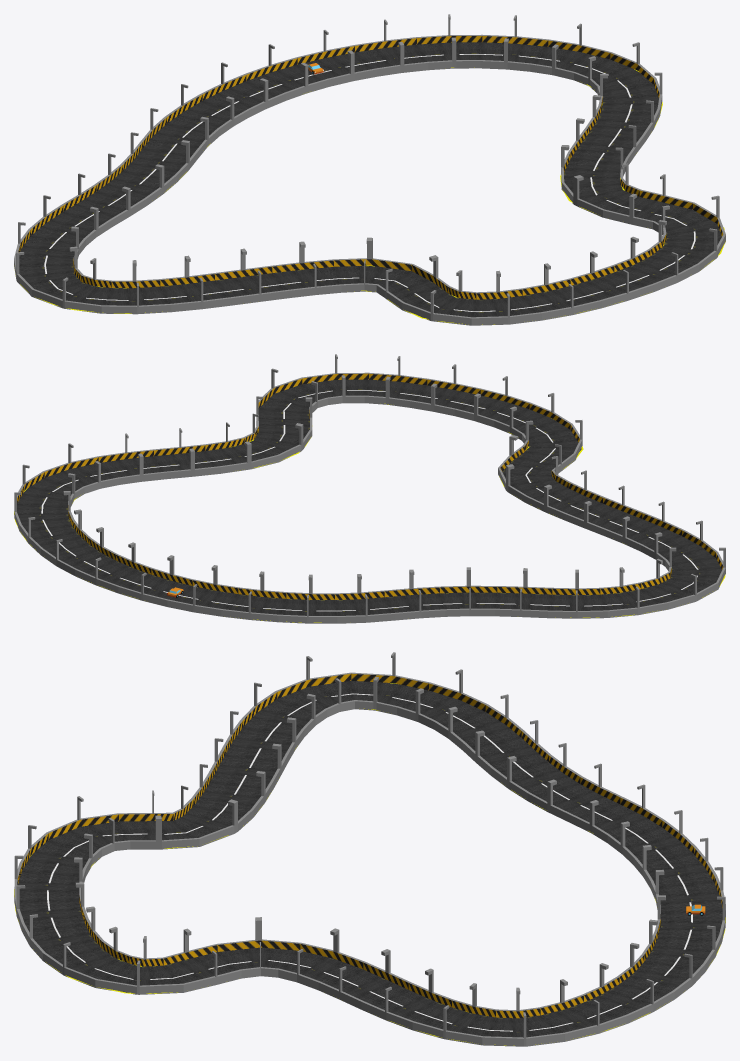
The model's file is car and track.fbx.
3 renders of one model, top to bottom at view 1: azimuth 30°, elevation 25°; view 2: azimuth 150°, elevation 25°; view 3: azimuth 270°, elevation 25°, orthographic. The views are drawn at different scales.
Visible parts, largest first — view 1: Road, Barrier; view 2: Road, Barrier; view 3: Road, Barrier.
Part boxes in pixels (x1,y1,x2,y2): Road: (15,42,725,324); Barrier: (14,14,725,325); Road: (14,379,725,622); Barrier: (14,354,725,623); Road: (14,680,725,1045); Barrier: (14,652,725,1046).
Size of the model in its own units: 24337 by 954 by 20000.
3 materials, 3 textured.
